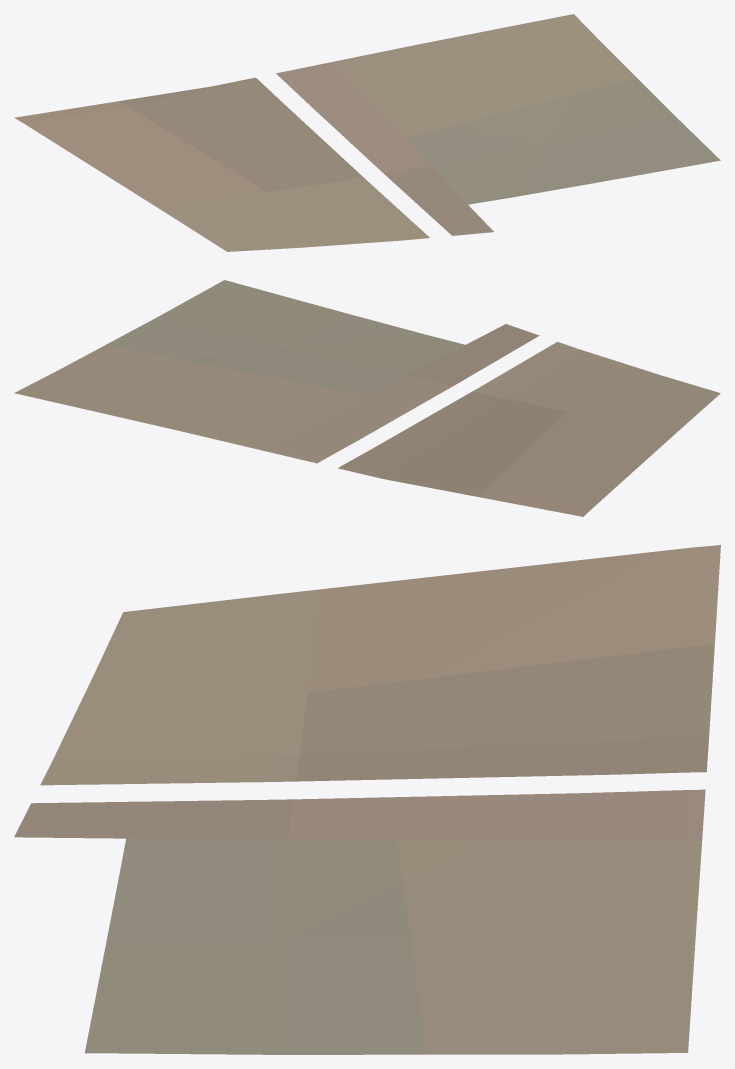
Rendered from farm_-6_9_soil.glb.
3 views of the same model, one above another, from view 1: azimuth 30°, elevation 25°; view 2: azimuth 150°, elevation 25°; view 3: azimuth 270°, elevation 25° (orthographic). The views are drawn at different scales.
Parts seen in each view (by area): view 1: geometry_0; view 2: geometry_0; view 3: geometry_0.
Part boxes in pixels (x1,y1,x2,y2): geometry_0: (14, 14, 720, 251); geometry_0: (14, 280, 720, 516); geometry_0: (14, 545, 720, 1054).
Bounding box in the file's own units: 213 × 13.61 × 137.
